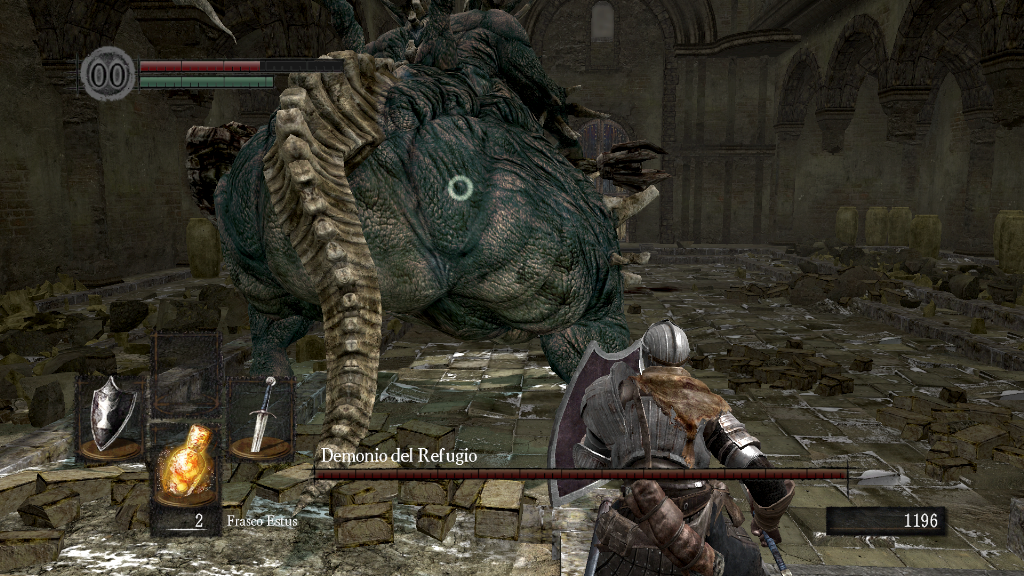asylumDemon: (178, 1, 658, 488)
bossHP: (314, 469, 847, 479)
health: (138, 58, 343, 71)
humanity: (80, 45, 136, 102)
player: (545, 319, 799, 576)
souls: (825, 506, 945, 536)
stamina: (138, 74, 274, 88)
